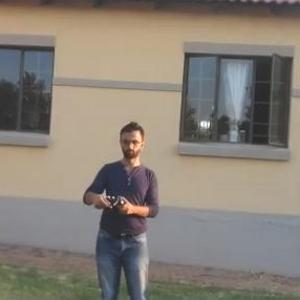follow: (76, 113, 166, 299)
